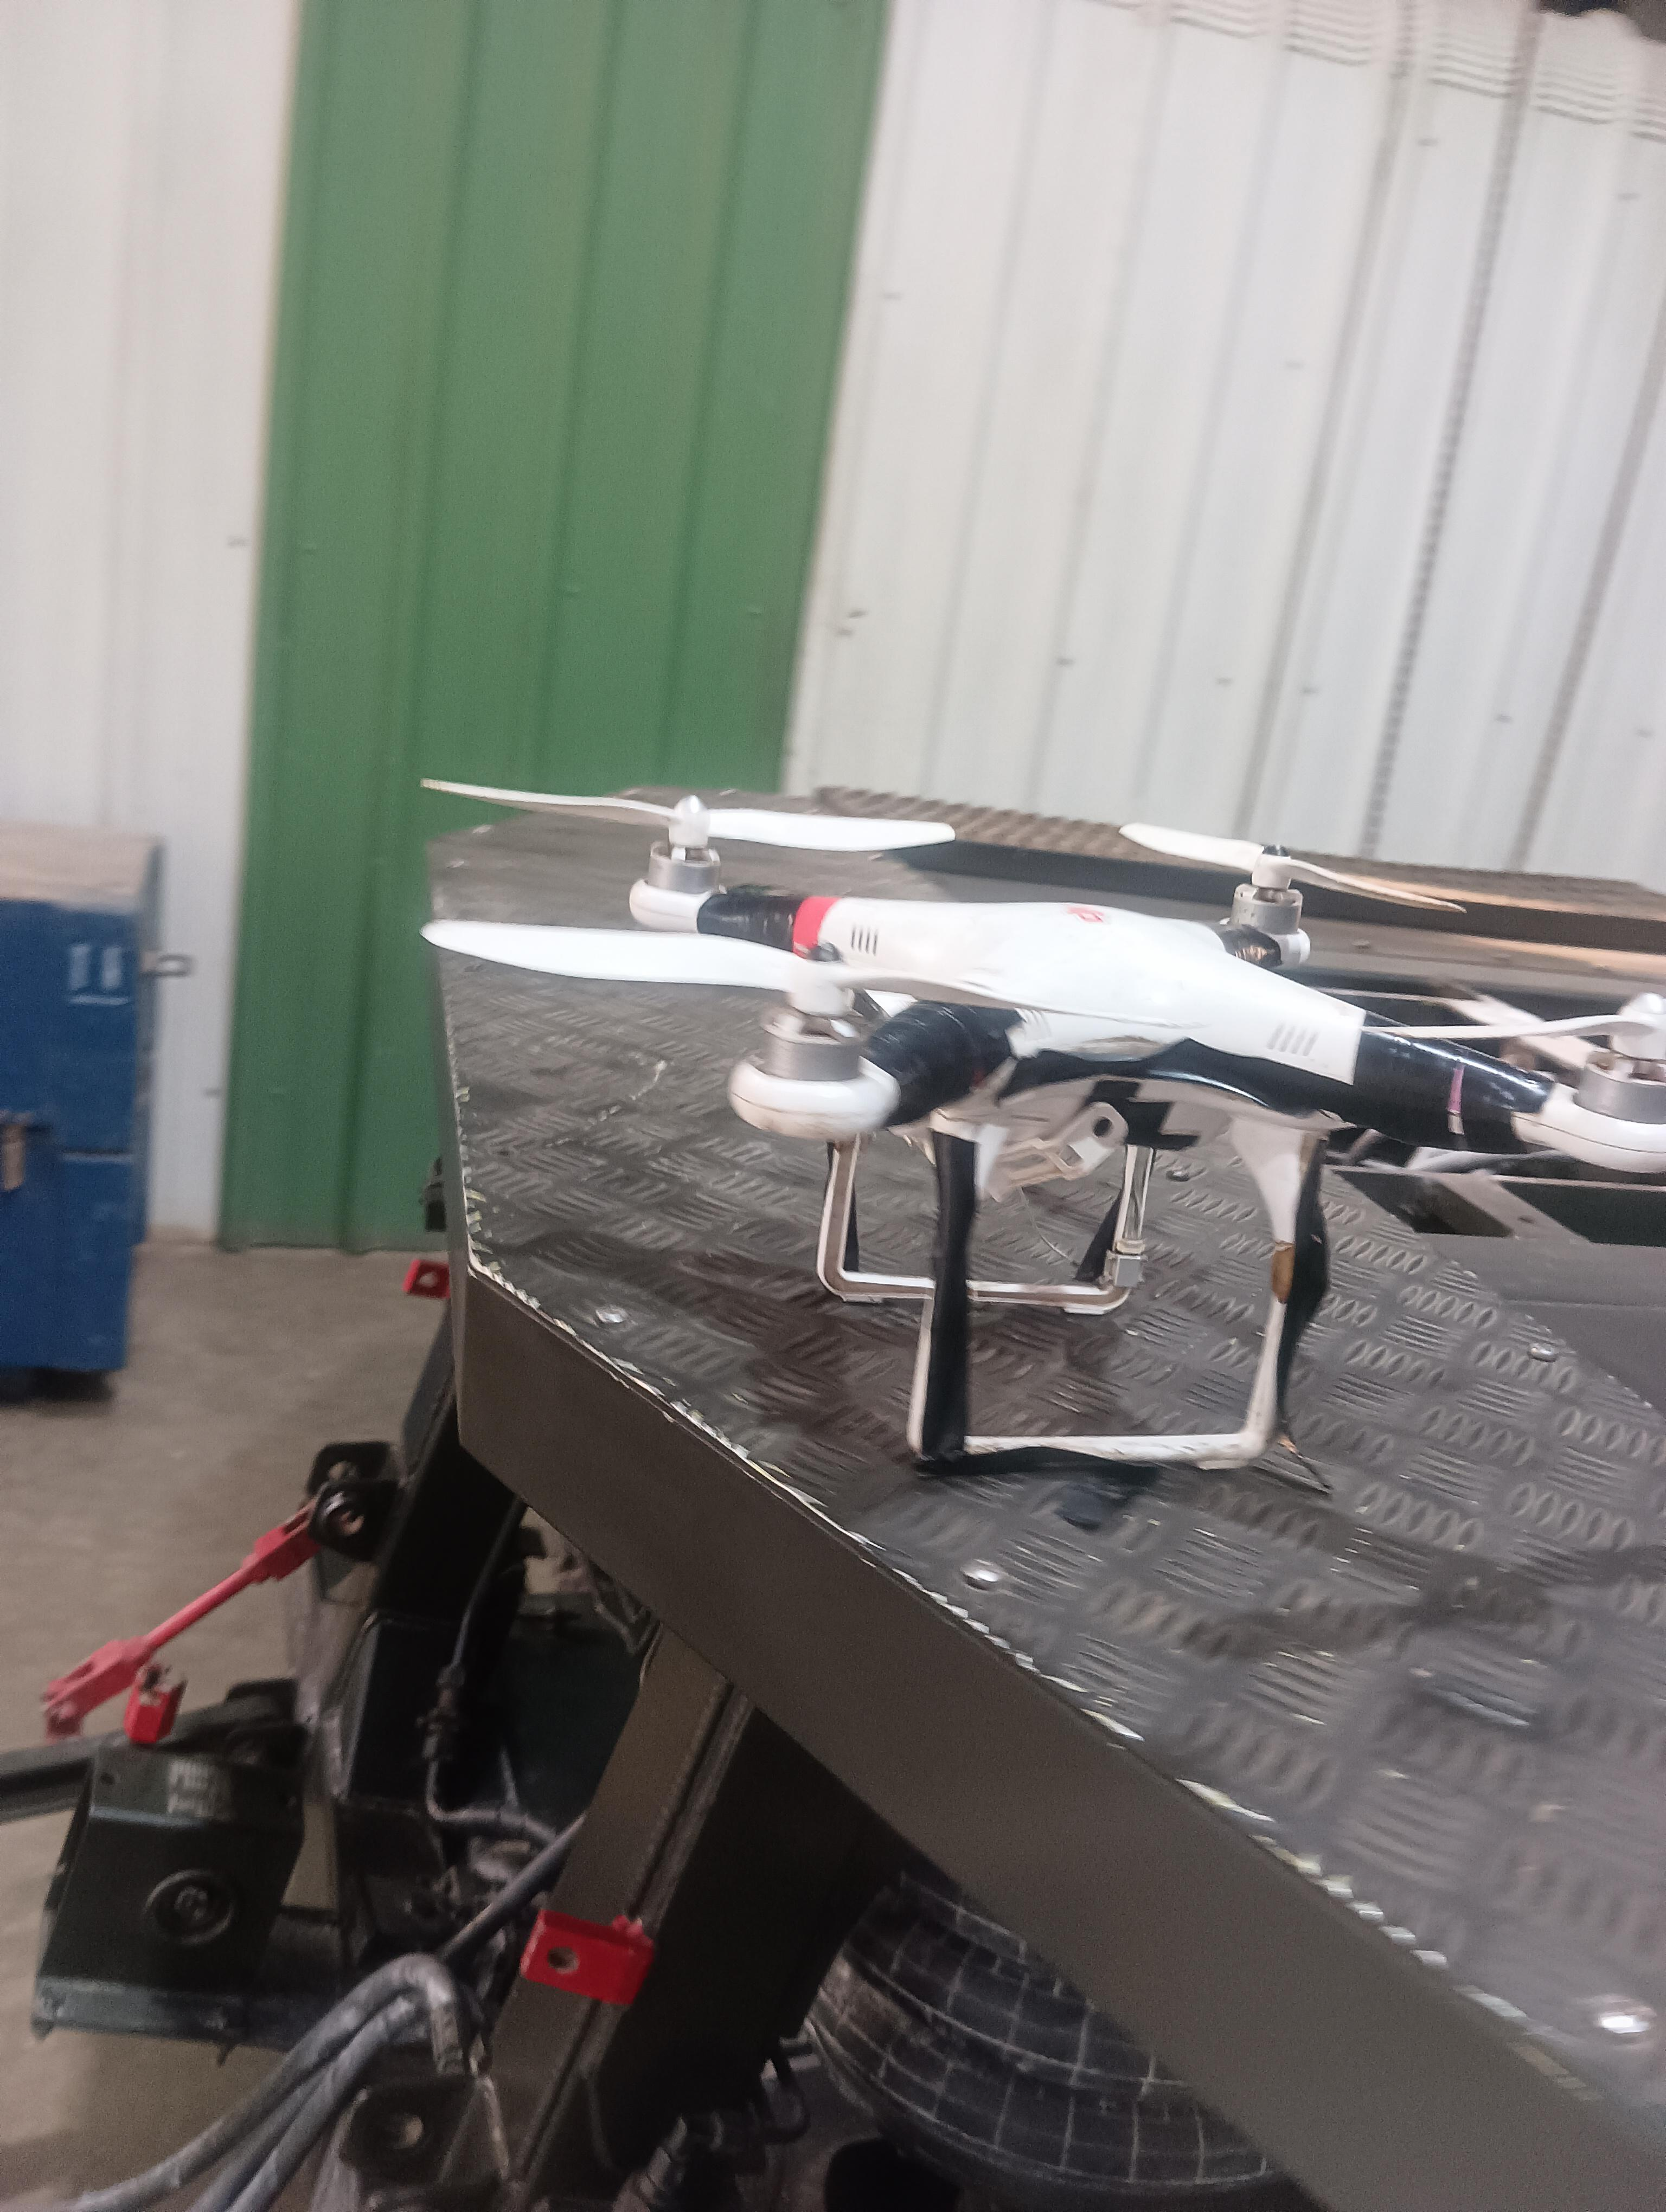drone: (488, 727, 1666, 1574)
